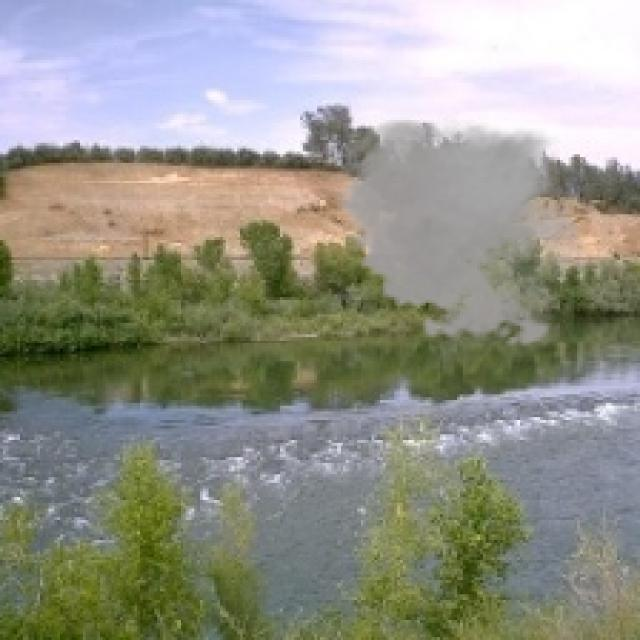smoke: (326, 109, 594, 354)
